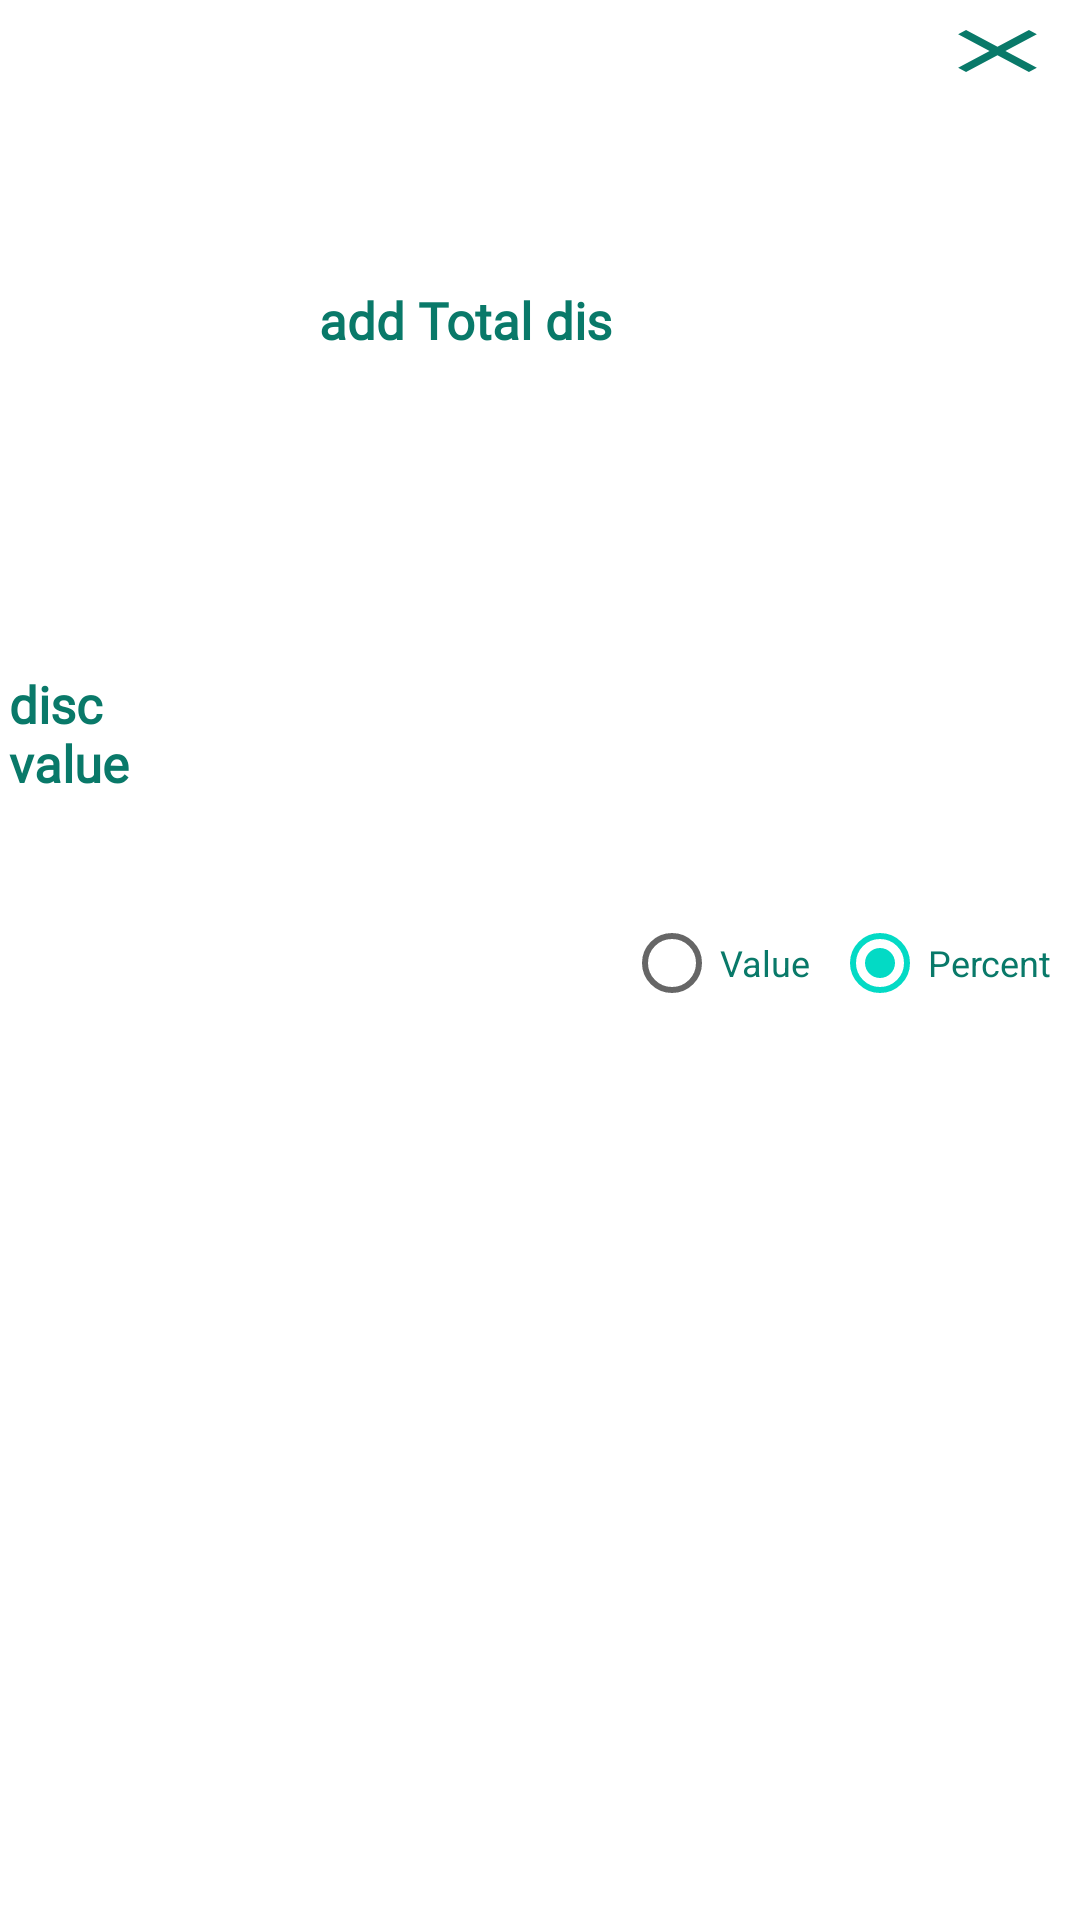

Where to tap for icons on this 1080x1920 app screen, as point (x, y):
clear: point (997, 51)
